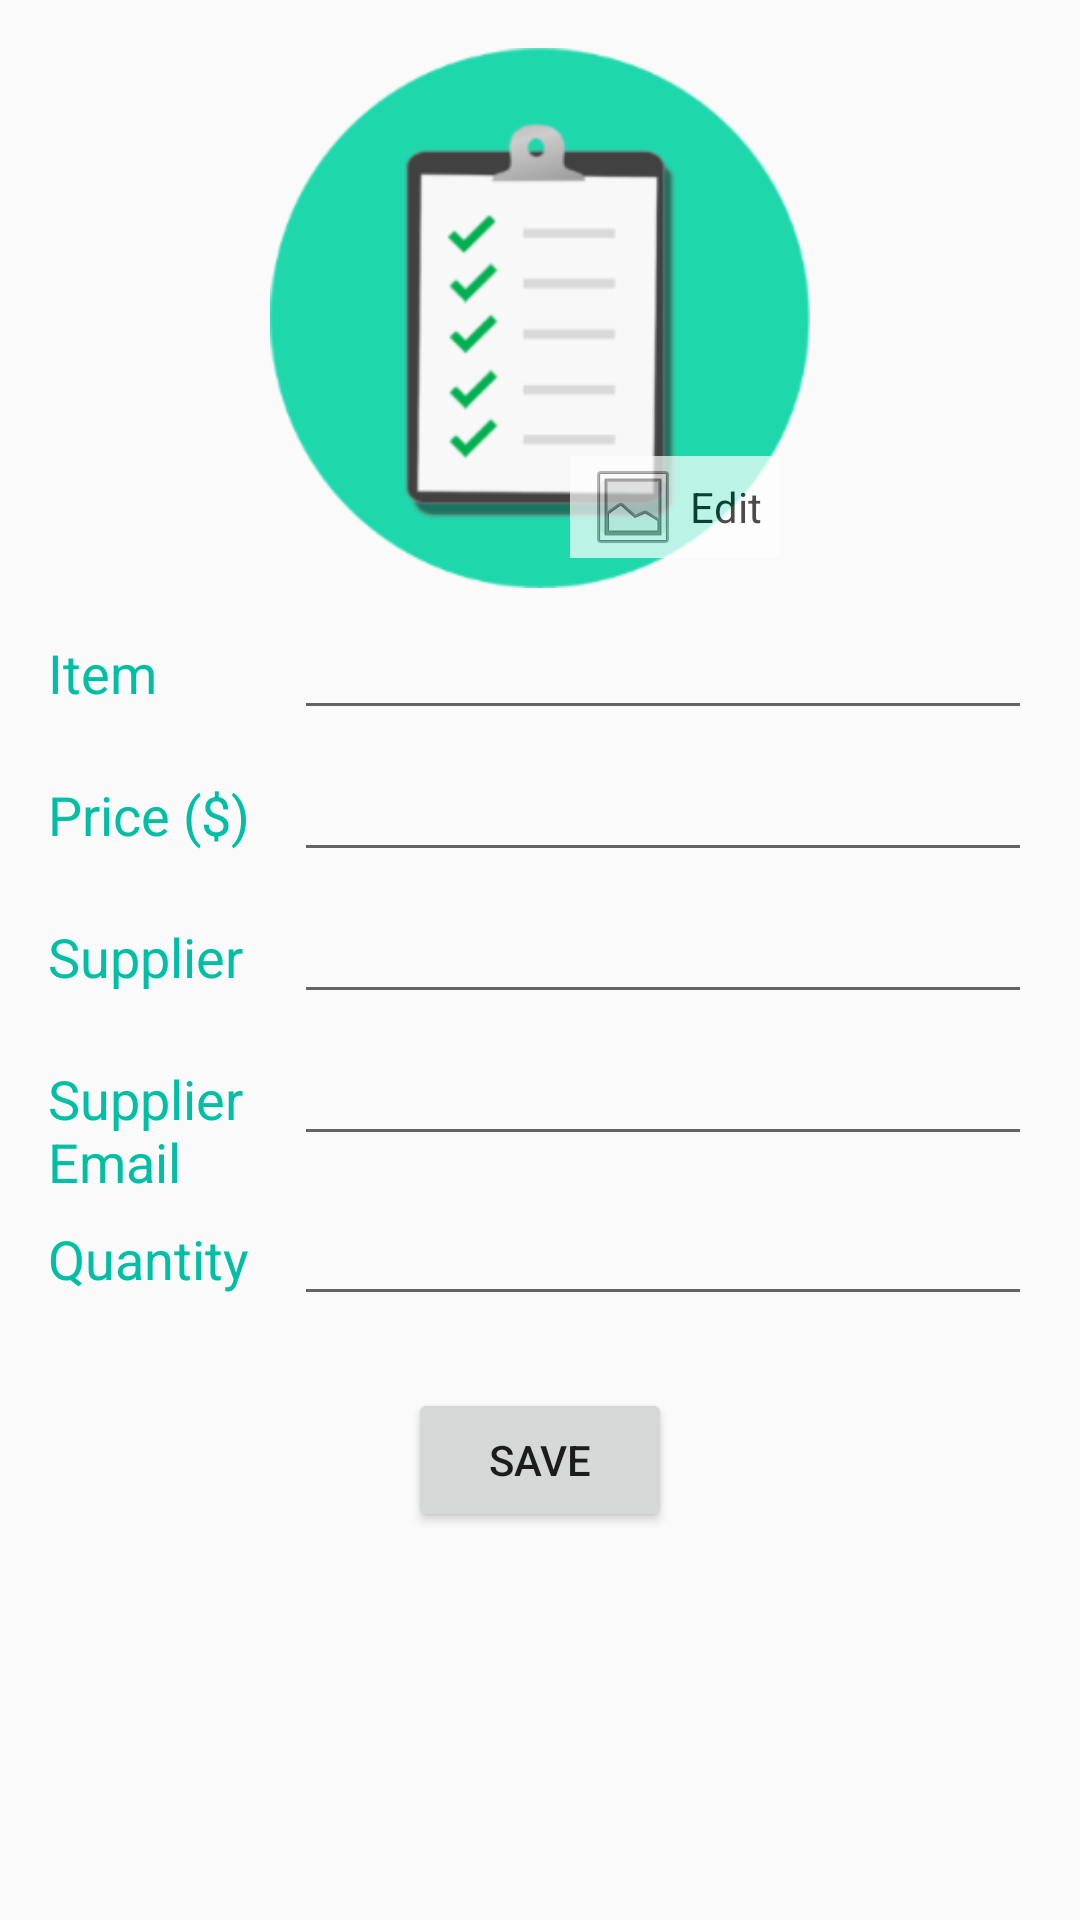

Screen size 1080px x 1920px. Icon name, then its center in pixels as [x,y]:
gallery: [633,507]
